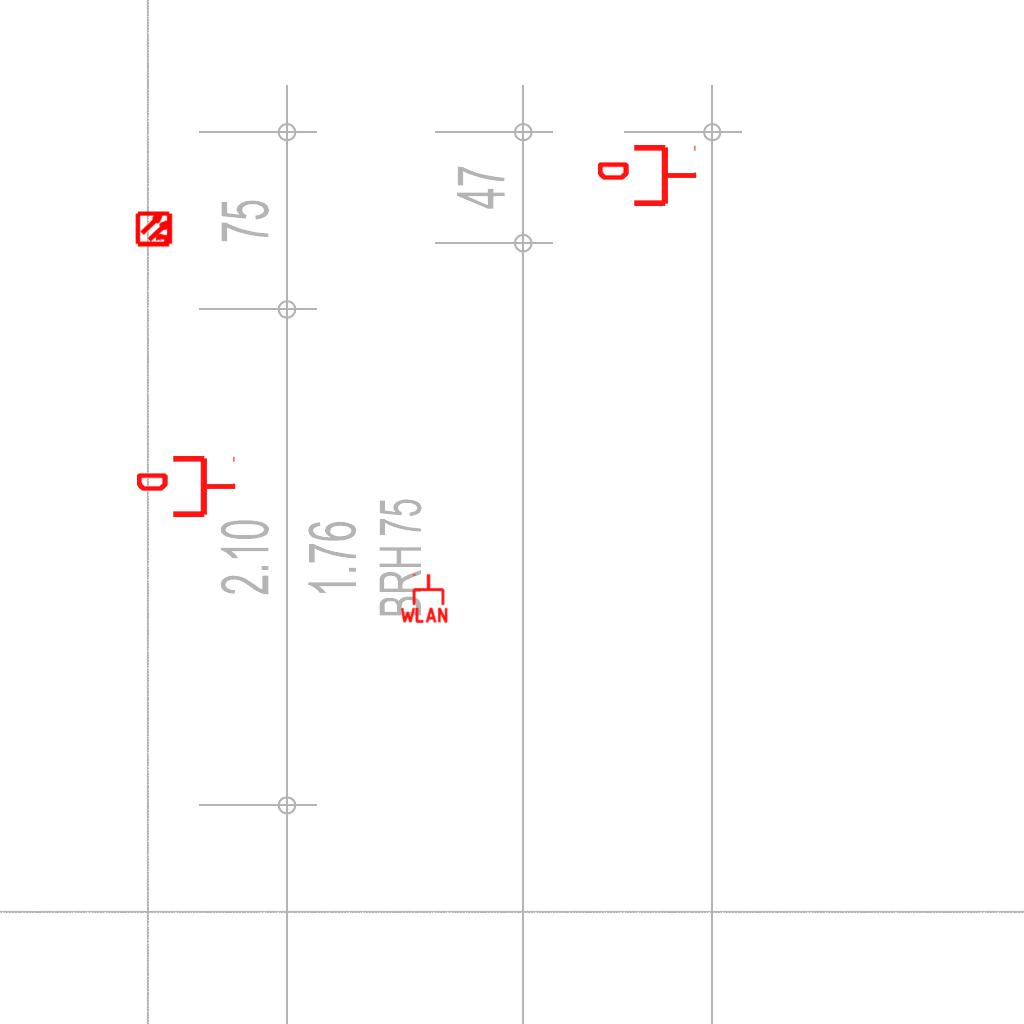Datenanschluss_einfach: (598, 141, 698, 210), (137, 452, 237, 521)
OT_Multisensormelder_(Kombination_RMO_WMD): (127, 201, 183, 257)
WLAN: (398, 572, 450, 624)
